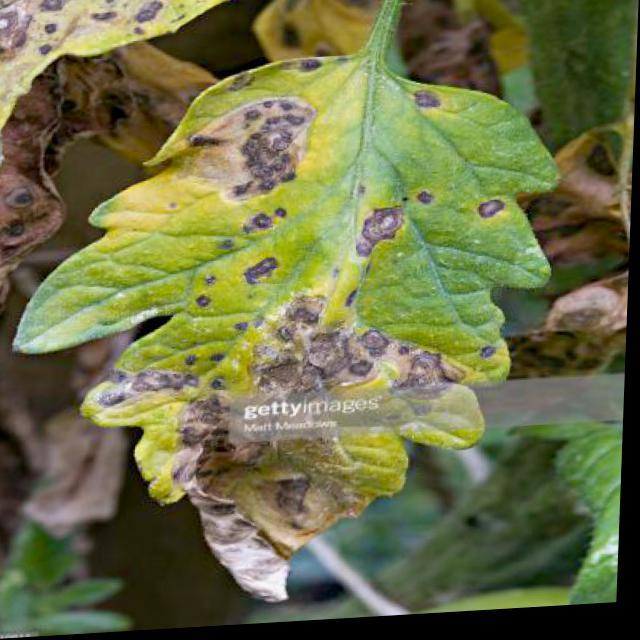Tomato Septoria spot leaf: (0, 36, 567, 610)
